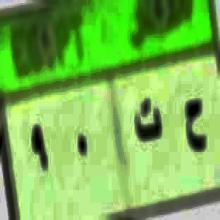0: (76, 121, 91, 179)
7aa: (181, 92, 209, 168)
9: (29, 121, 50, 180)
taa: (135, 94, 165, 145)
